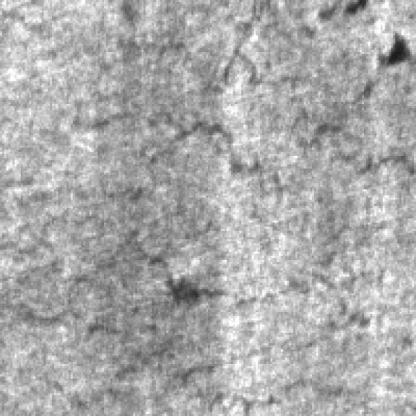crazing: (0, 193, 370, 409), (4, 37, 410, 204)
